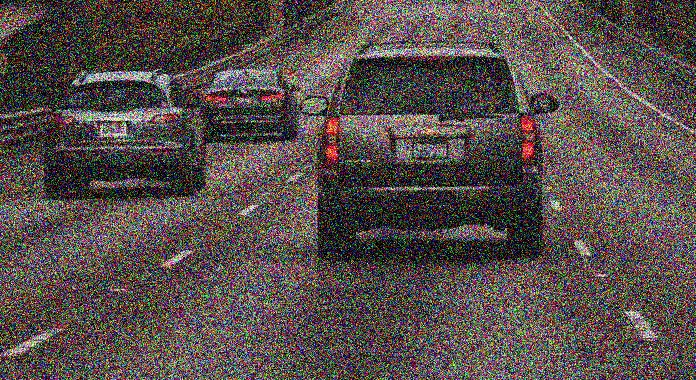car: (298, 25, 571, 268), (44, 62, 205, 207), (204, 62, 297, 143)
